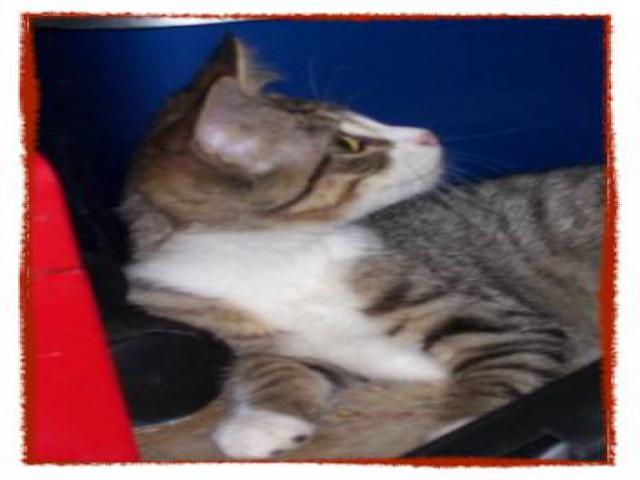cat: (101, 59, 610, 460)
